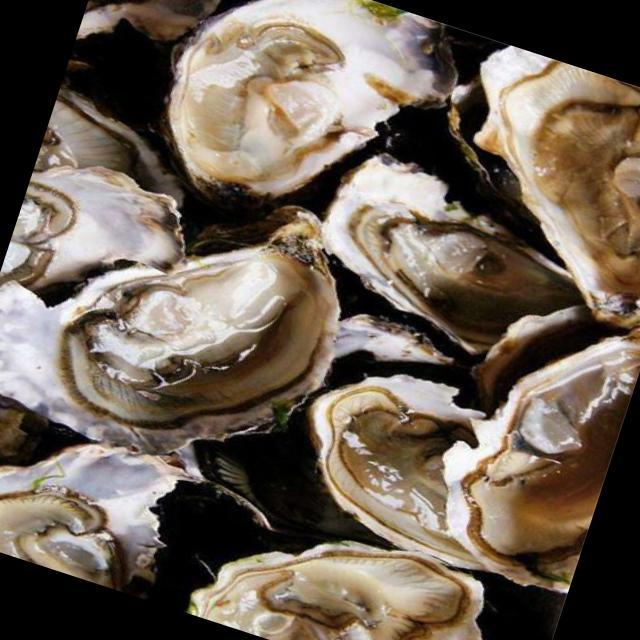Oyster-Open: (0, 123, 373, 503), (134, 0, 477, 264), (294, 134, 620, 384), (411, 283, 640, 600), (414, 37, 640, 331), (177, 484, 513, 640), (0, 145, 208, 342), (0, 402, 198, 603), (73, 0, 235, 83)
